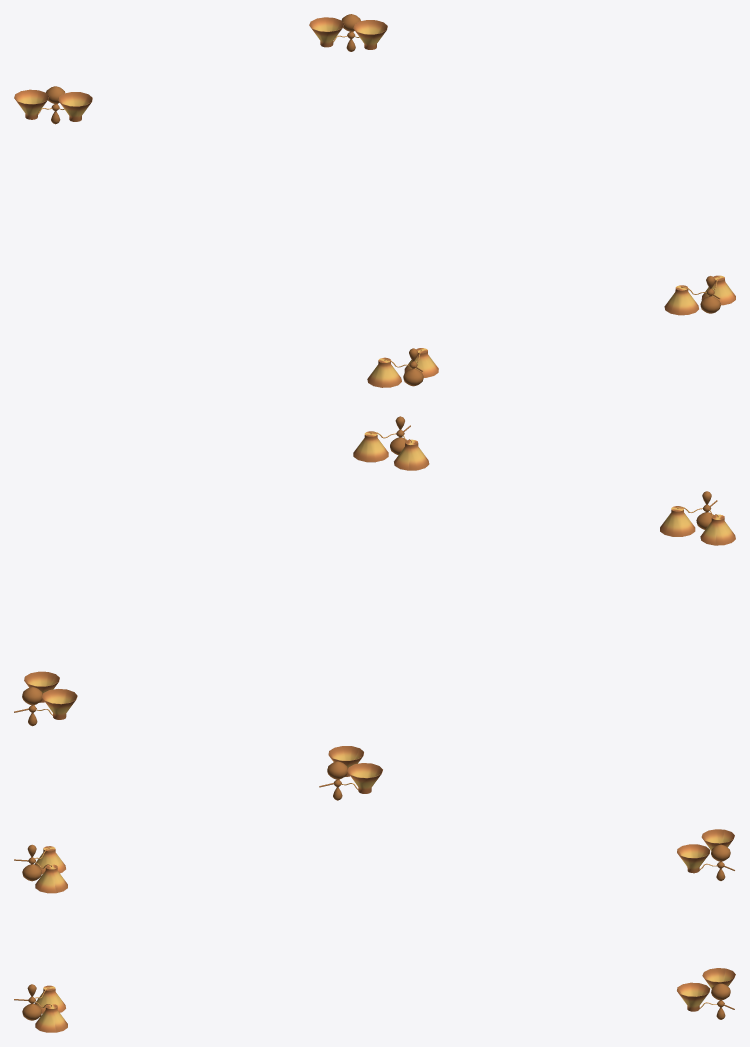
The model's file is WallLamps.FBX.
3 renders of one model, top to bottom at view 1: azimuth 30°, elevation 25°; view 2: azimuth 150°, elevation 25°; view 3: azimuth 270°, elevation 25°, orthographic. The views are drawn at different scales.
Parts seen in each view (by area): view 1: WallLamp_02, WallLamp_01, WallLamp_03, WallLamp_04; view 2: WallLamp_04, WallLamp_03, WallLamp_01, WallLamp_02; view 3: WallLamp_01, WallLamp_02, WallLamp_03, WallLamp_04.
Boxes of the visible parts, x1,y1,x2,y2 form: WallLamp_02: (309, 14, 387, 51); WallLamp_01: (14, 86, 92, 124); WallLamp_03: (367, 348, 438, 387); WallLamp_04: (664, 275, 735, 315); WallLamp_04: (353, 416, 429, 470); WallLamp_03: (660, 491, 735, 545); WallLamp_01: (319, 746, 382, 800); WallLamp_02: (14, 671, 77, 726); WallLamp_01: (677, 829, 734, 880); WallLamp_02: (677, 968, 735, 1019); WallLamp_03: (14, 844, 67, 893); WallLamp_04: (14, 984, 67, 1032).
Size of the model in its own units: 107 by 10.28 by 187.
2 materials, 1 textured.
